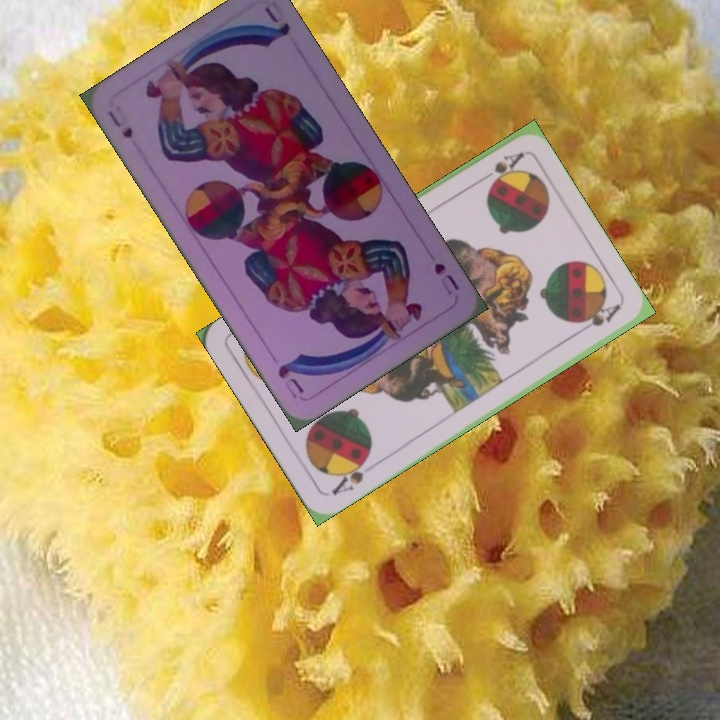SA: (472, 148, 526, 187), (327, 452, 372, 498)
SU: (103, 106, 136, 142), (430, 258, 462, 294)
